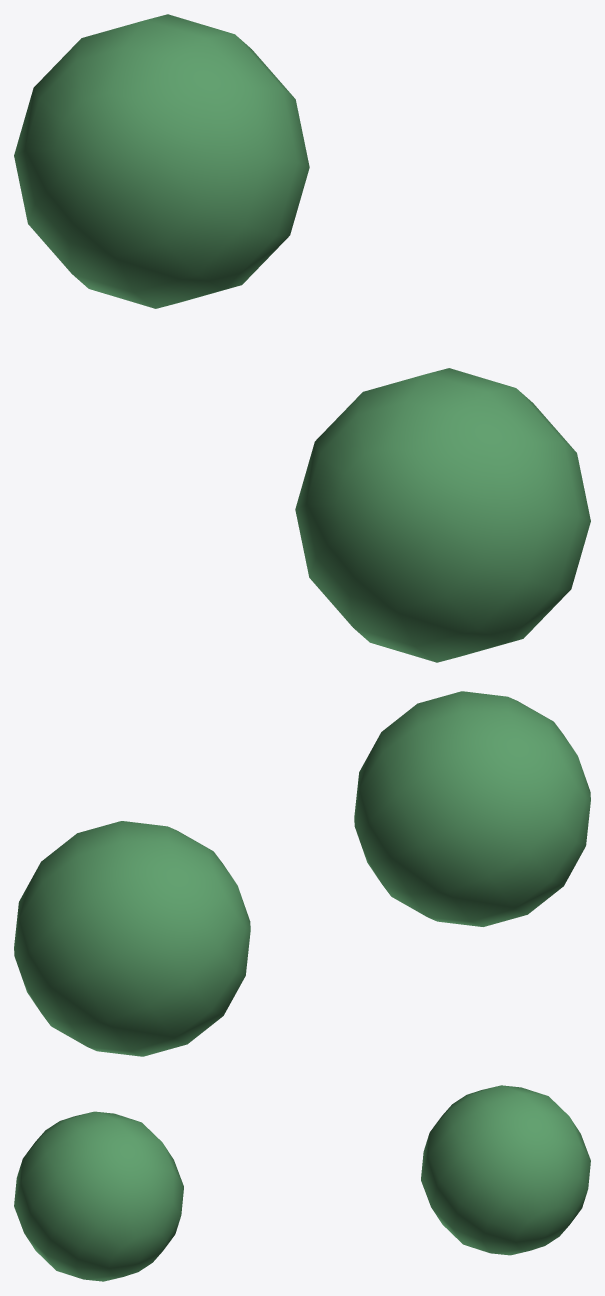
3 views of the same model, one above another, from view 1: azimuth 30°, elevation 25°; view 2: azimuth 150°, elevation 25°; view 3: azimuth 270°, elevation 25° (orthographic). The views are drawn at different scales.
Parts seen in each view (by area): view 1: 左侧耳下淋巴结; view 2: 左侧耳下淋巴结; view 3: 左侧耳下淋巴结.
Boxes of the visible parts, <box> form: 左侧耳下淋巴结: <box>14,14,590,662</box>; 左侧耳下淋巴结: <box>14,691,590,1056</box>; 左侧耳下淋巴结: <box>14,1085,590,1281</box>.
Size of the model in its own units: 0.00487 by 0.00489 by 0.0129.
